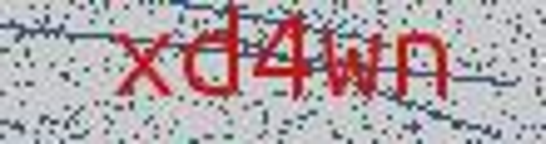4: (248, 8, 316, 112)
d: (179, 1, 246, 106)
n: (388, 13, 465, 107)
w: (316, 16, 387, 111)
x: (108, 25, 176, 112)
